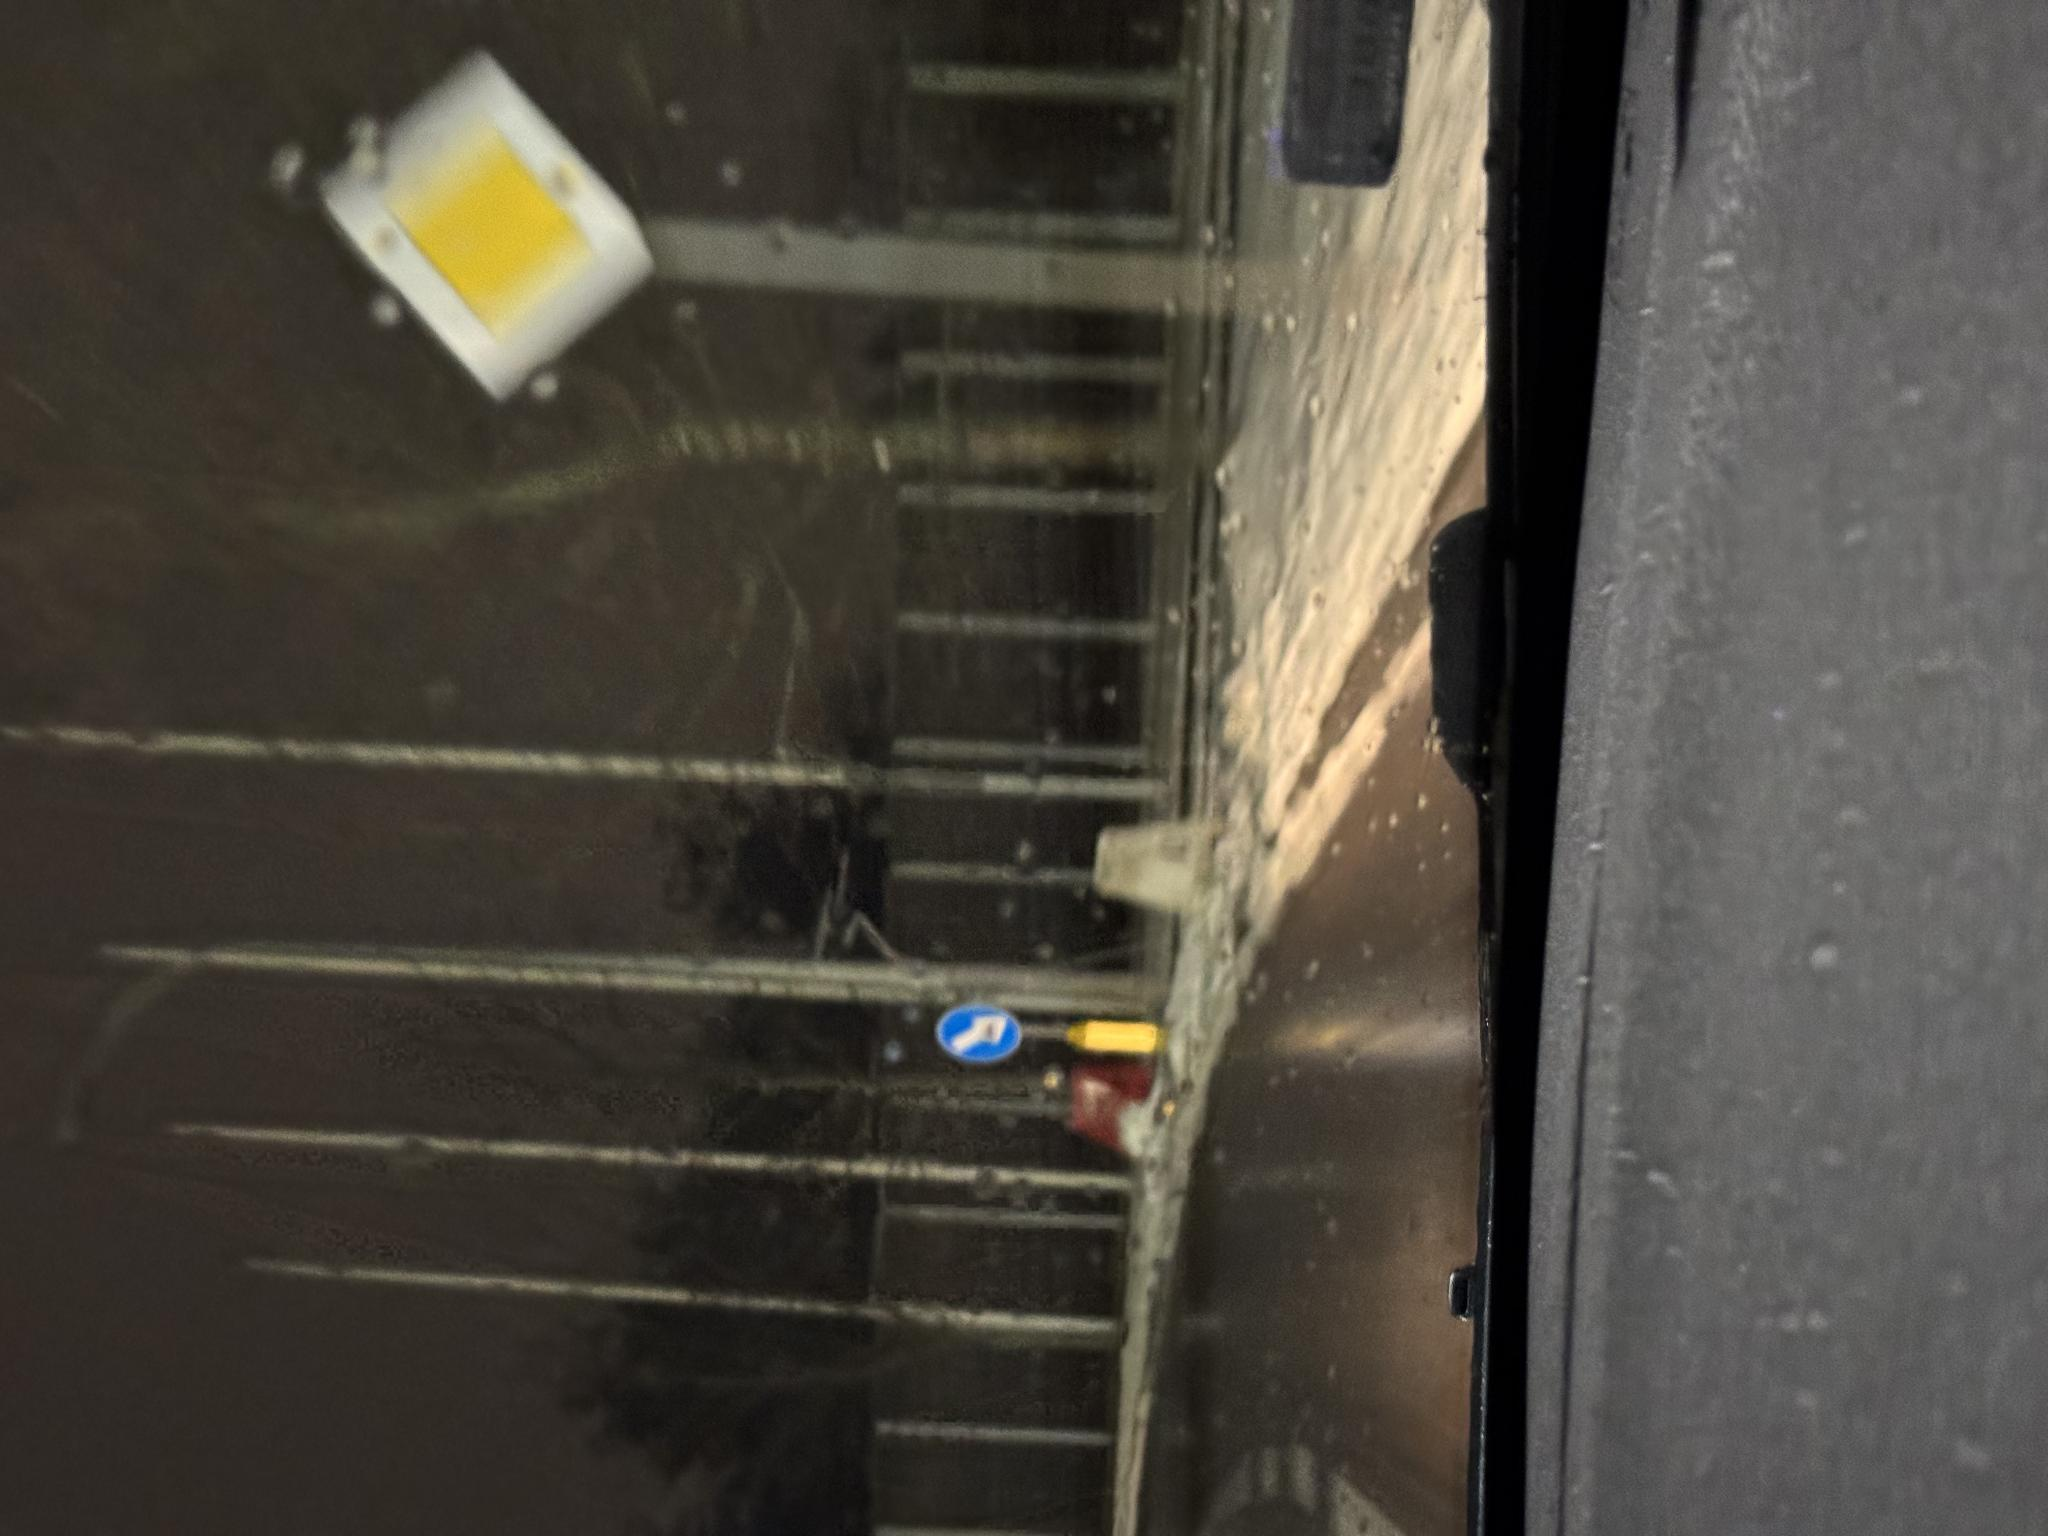information: (1146, 328, 1488, 644)
mandatory: (470, 934, 536, 1026)
